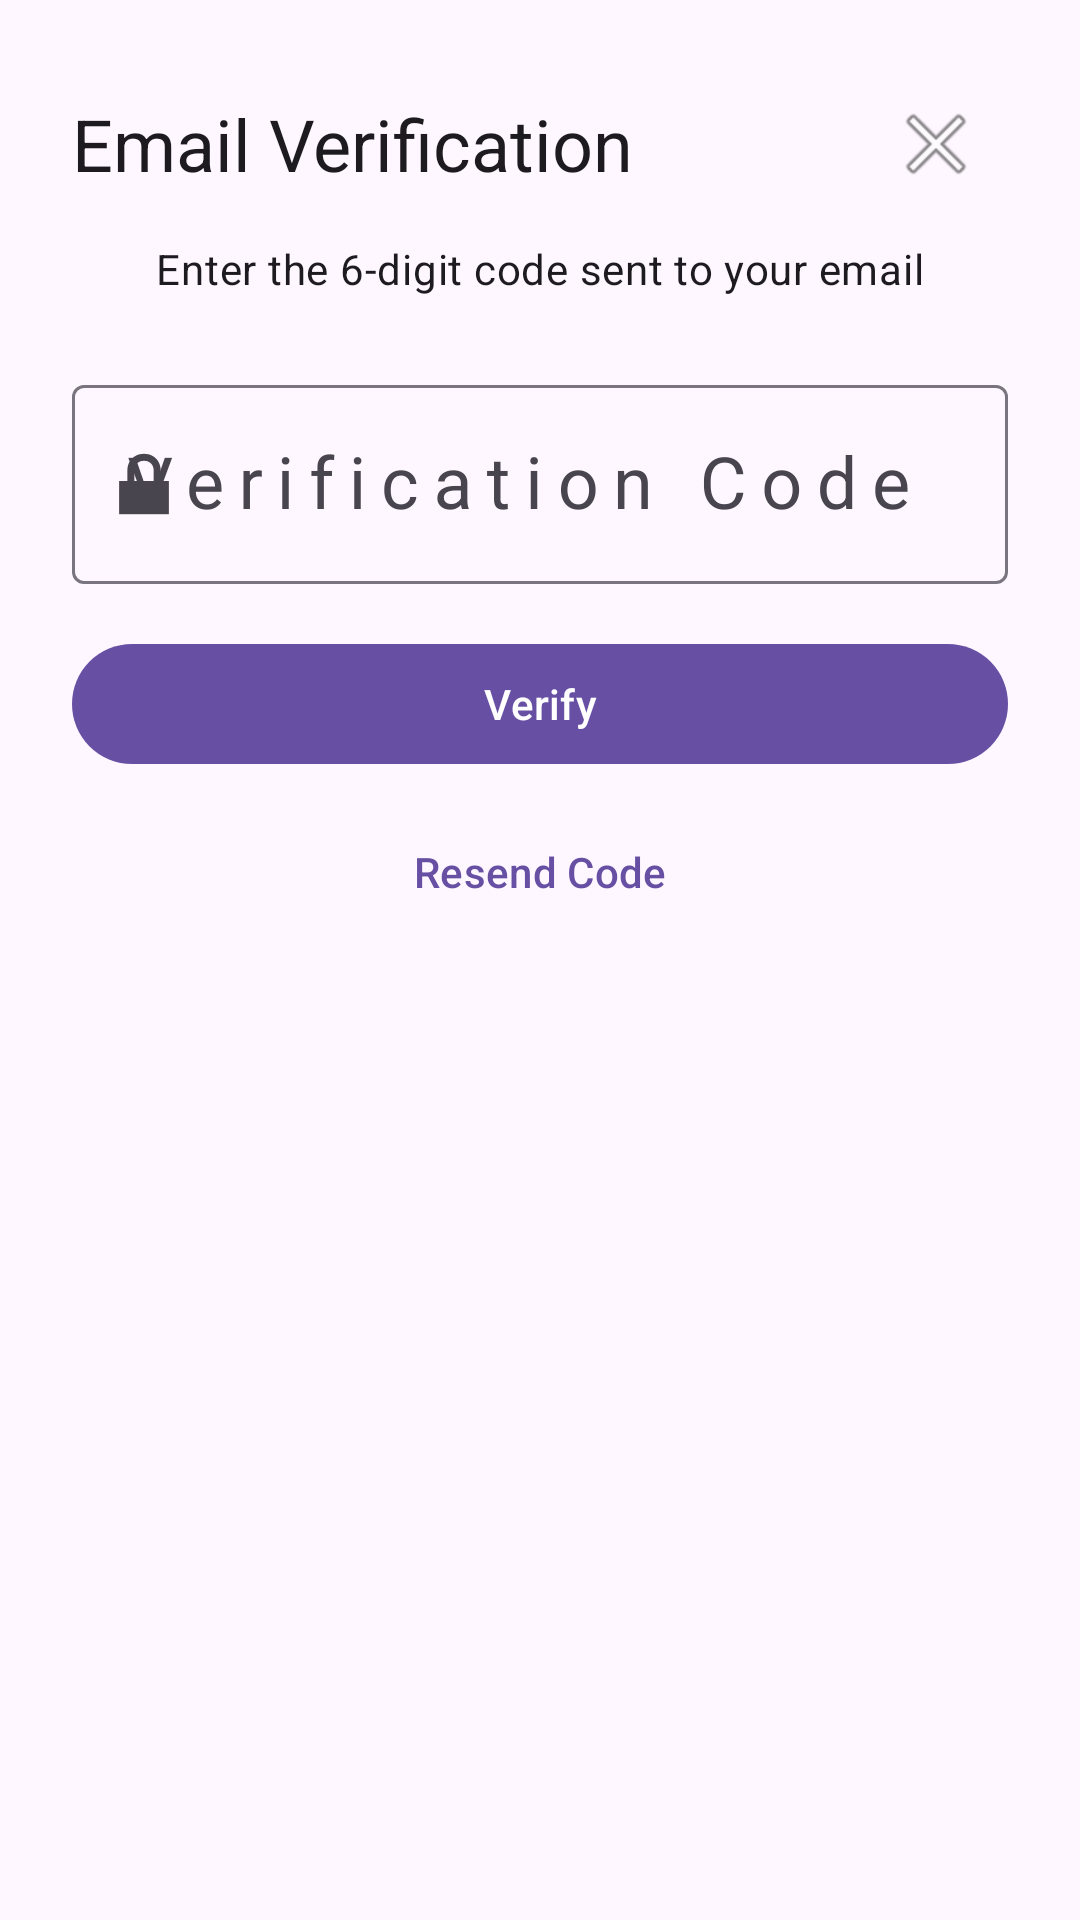

Point at icon controls on the screen. Image size 1080x1920, points as (x,y).
Close: (936,144)
